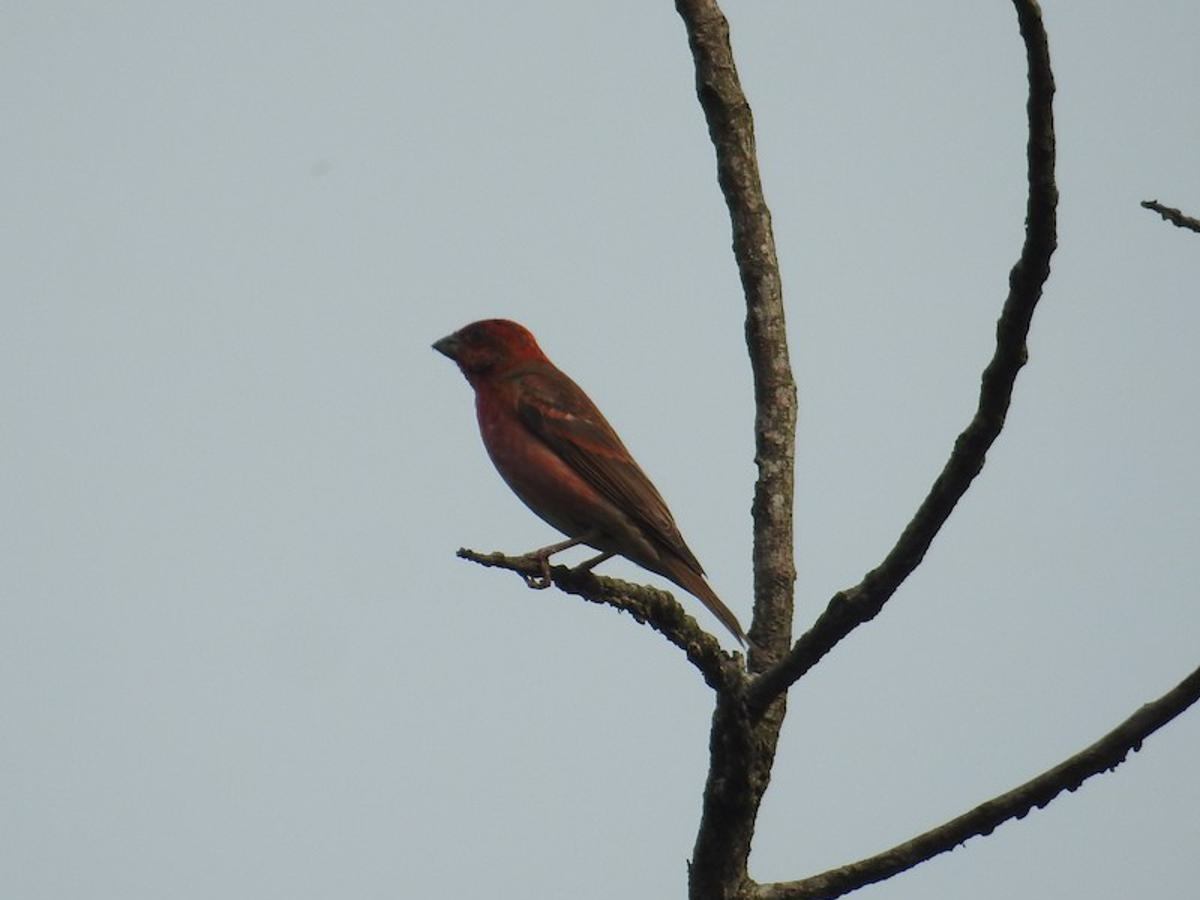rosefinch: (410, 294, 739, 642)
